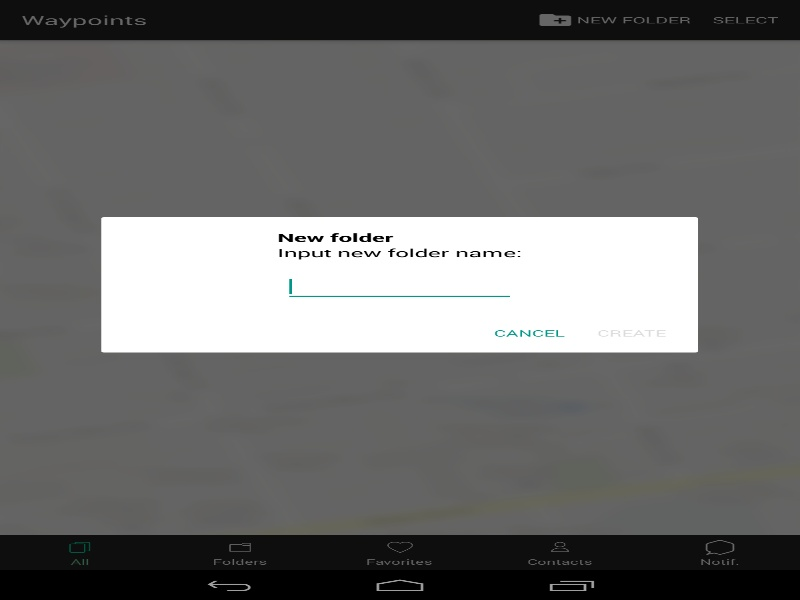Button: (478, 316, 580, 350), (580, 316, 682, 350)
Input: (284, 272, 515, 301)
